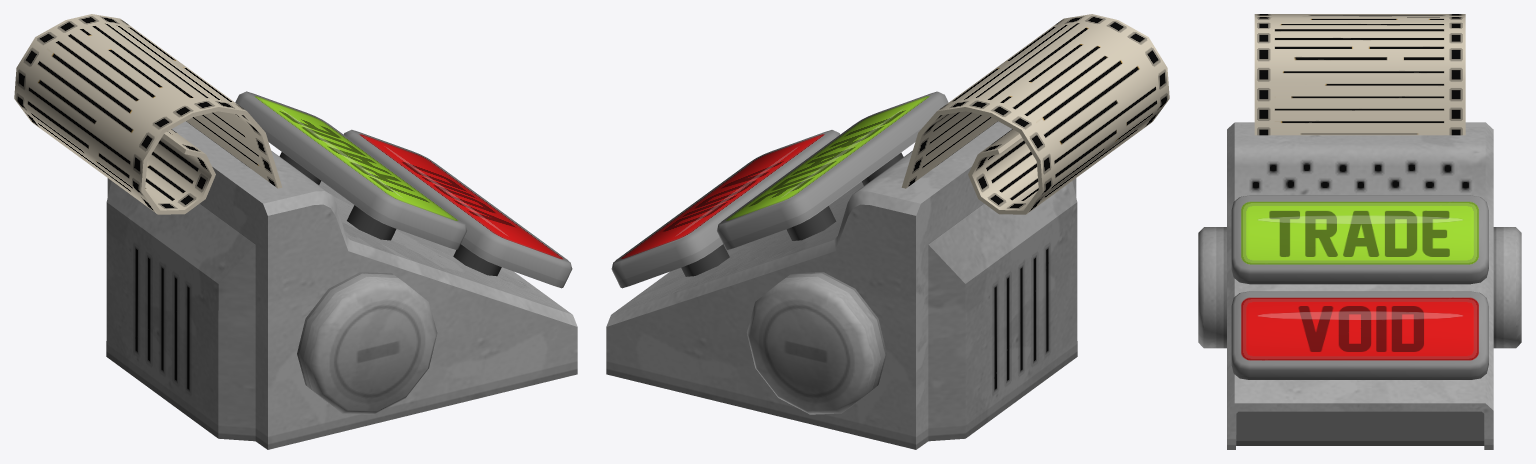
Rendered from TILL_model_01.FBX.
3 views of the same model, side by side, from view 1: azimuth 30°, elevation 25°; view 2: azimuth 150°, elevation 25°; view 3: azimuth 270°, elevation 25° (orthographic). The views are drawn at different scales.
Visible parts, largest first — view 1: Object04; view 2: Object04; view 3: Object04.
Boxes of the visible parts, x1,y1,x2,y2 form: Object04: [14, 14, 577, 449]; Object04: [606, 14, 1169, 449]; Object04: [1198, 14, 1521, 449].
Size of the model in its own units: 72.05 by 55.1 by 57.16.
1 material, 1 textured.
